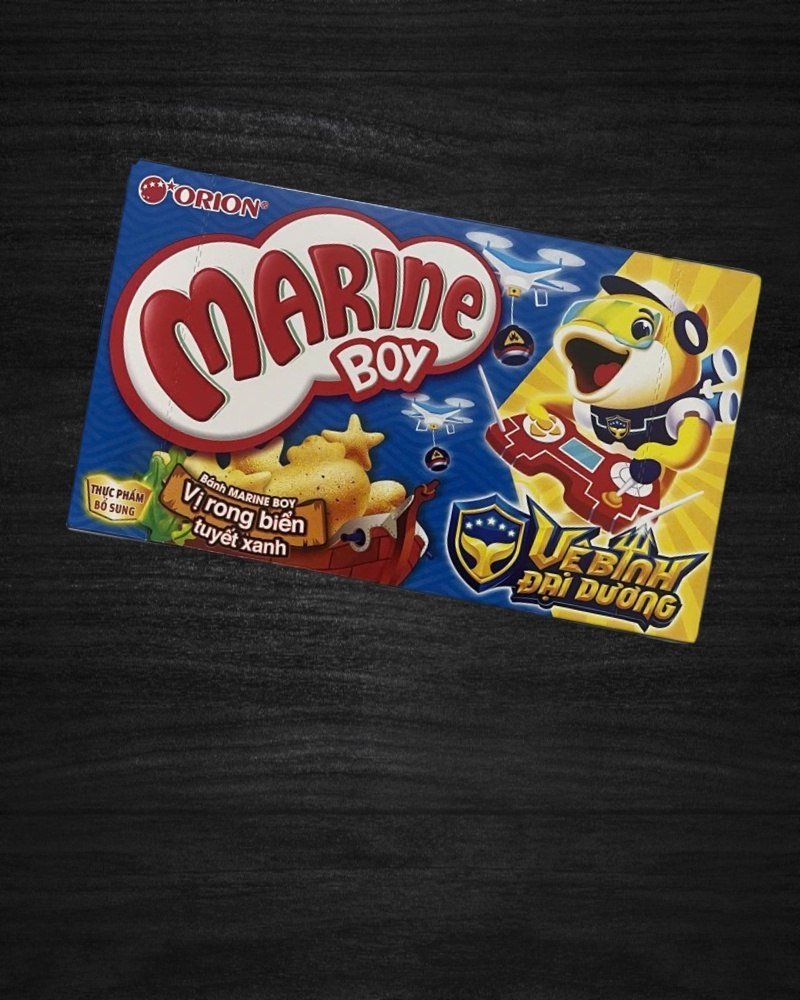Marine: (66, 158, 766, 647)
